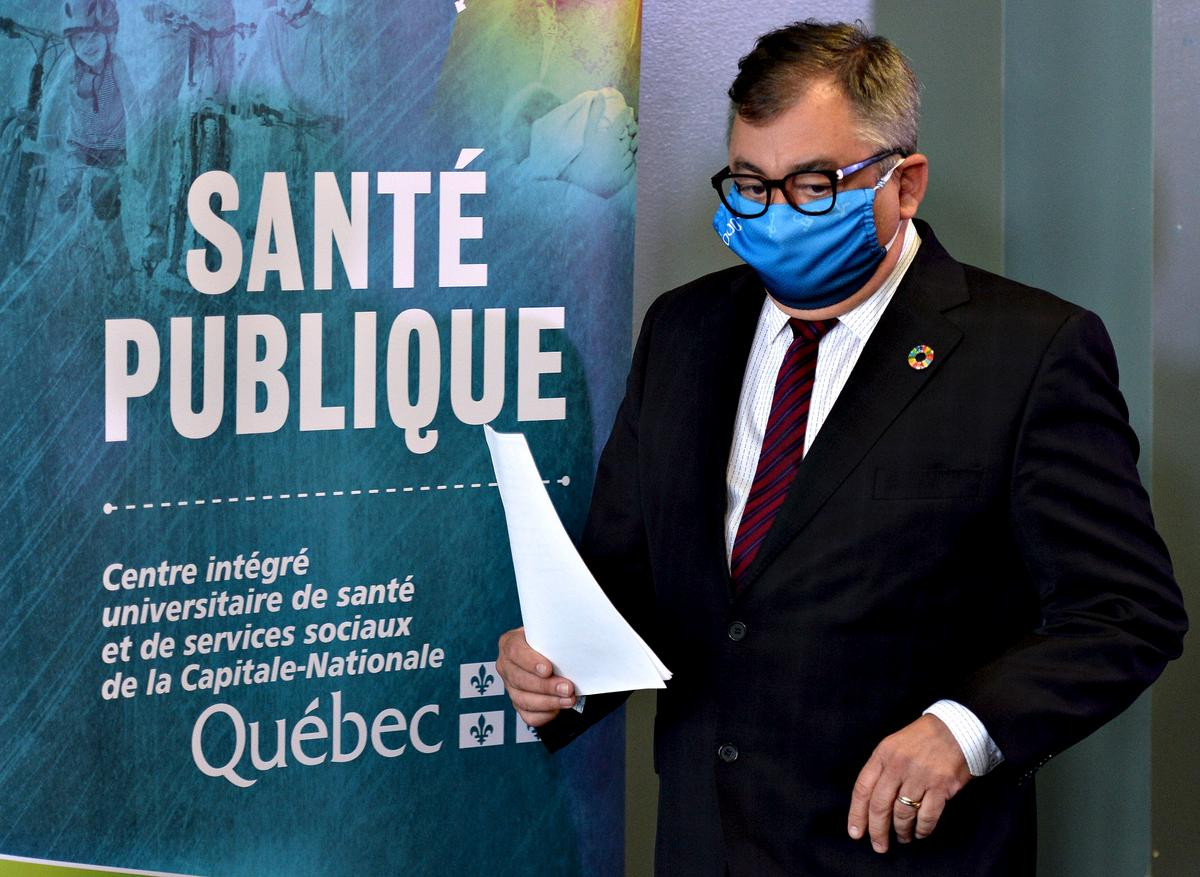with_mask: (727, 105, 887, 300)
